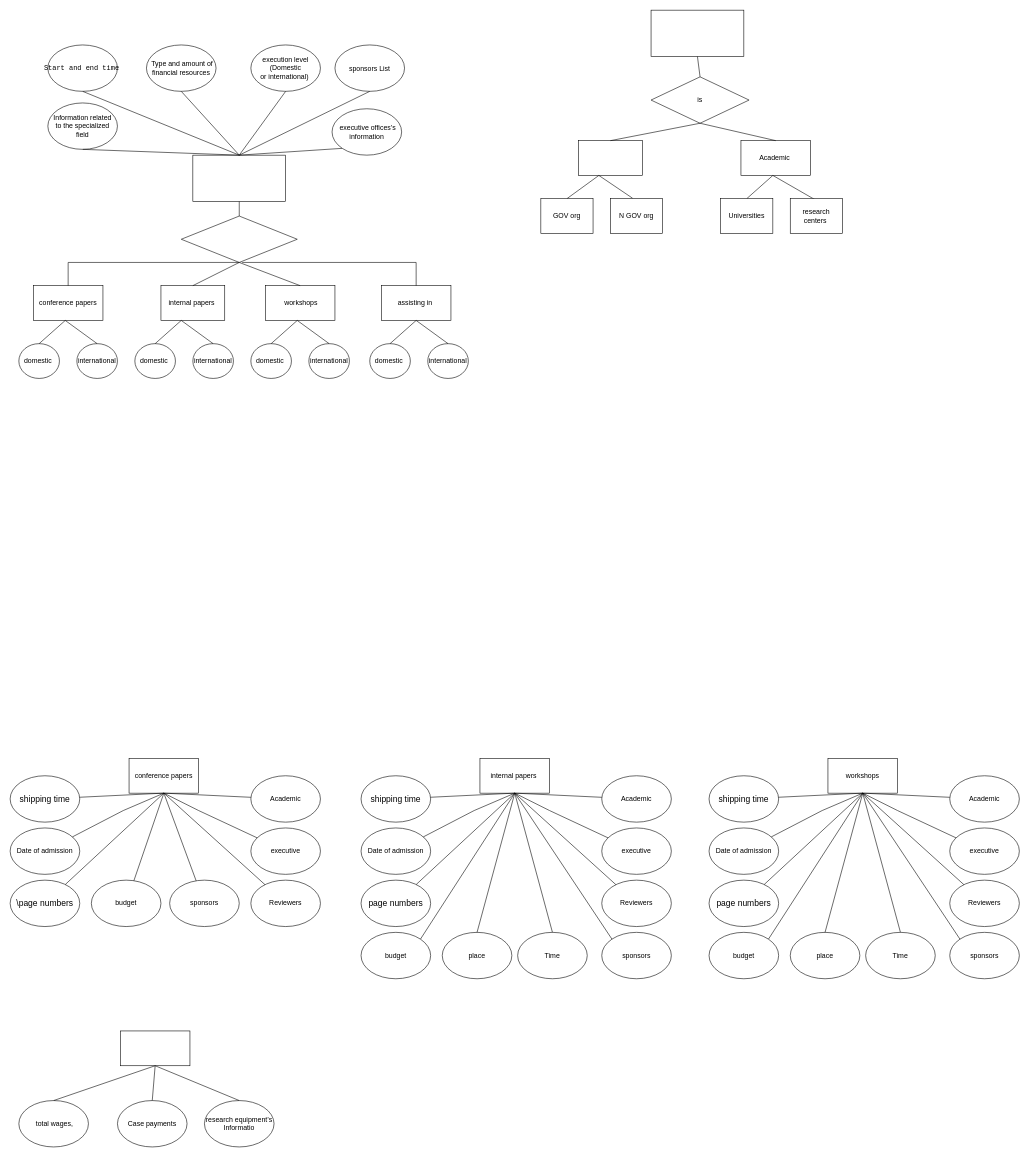
Image size: 1030x1157. Some labels were removed from this diagram. Each missing label, with the box of its shape:
Institute types: (650, 10, 744, 57)
is contain: (181, 215, 297, 262)
Practical: (578, 140, 642, 175)
related Information of member: (120, 1030, 190, 1066)
Research activity: (192, 155, 286, 202)
